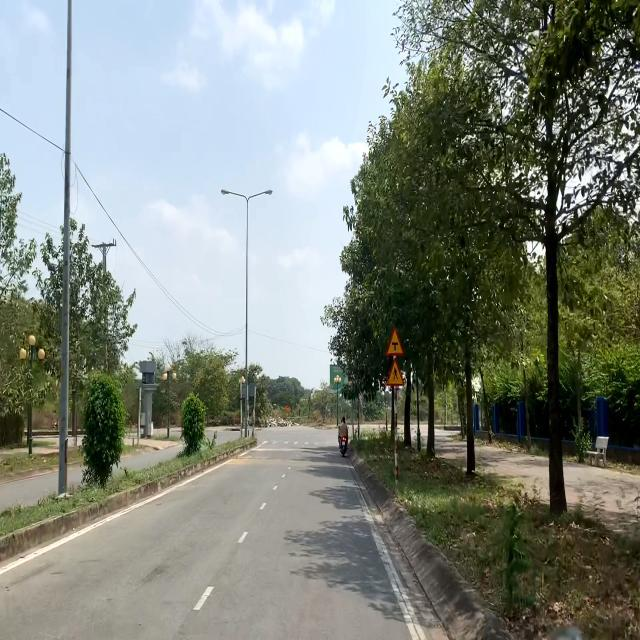W-205d: (384, 324, 404, 358)
W-224: (386, 360, 406, 386)
